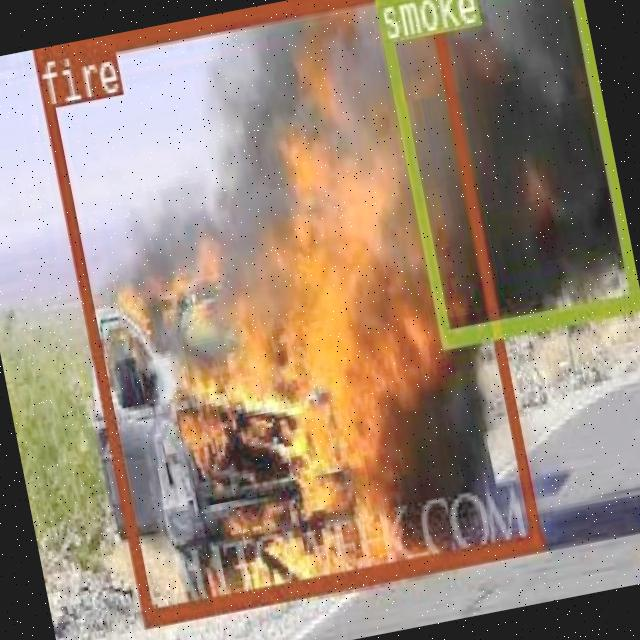fire: (30, 0, 540, 622)
smoke: (370, 0, 639, 343)
